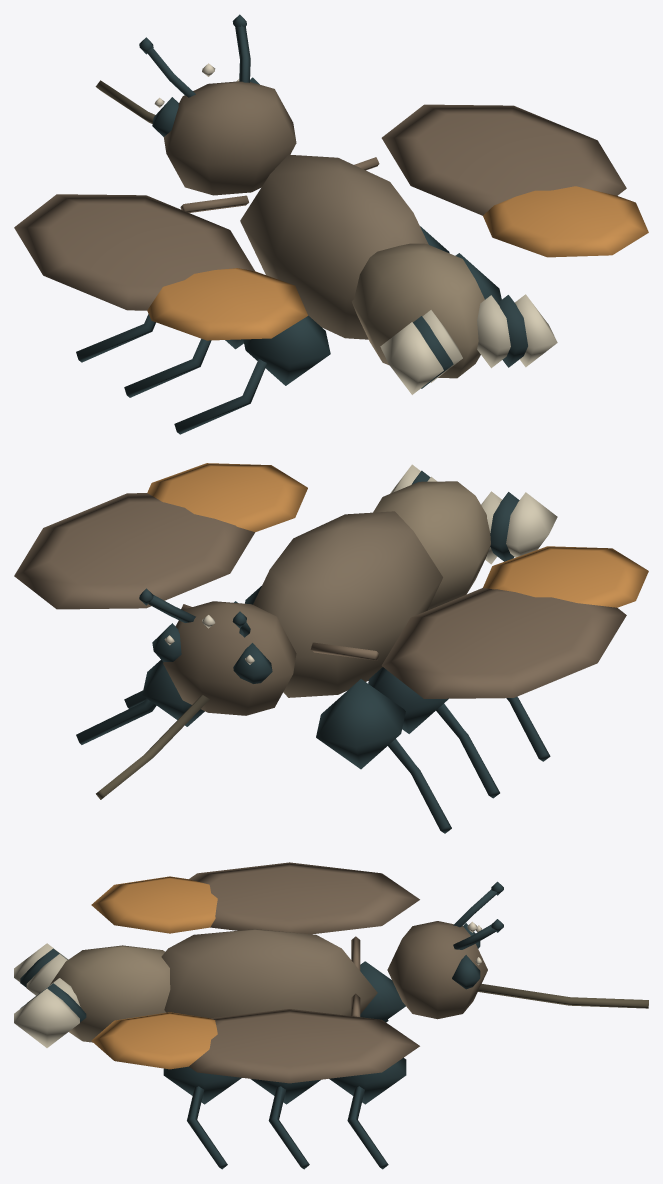
File: insect_hawkmoth_hummingbird.glb
The picture shows the model from 3 angles, top to bottom: view 1: azimuth 30°, elevation 25°; view 2: azimuth 150°, elevation 25°; view 3: azimuth 270°, elevation 25°; orthographic projection. The views are drawn at different scales.
Visible parts, largest first — view 1: Model; view 2: Model; view 3: Model.
Boxes of the visible parts, x1,y1,x2,y2 form: Model: [14, 14, 648, 434]; Model: [14, 463, 648, 833]; Model: [14, 862, 648, 1169].
Size of the model in its own units: 0.1647 by 0.0685 by 0.2.
